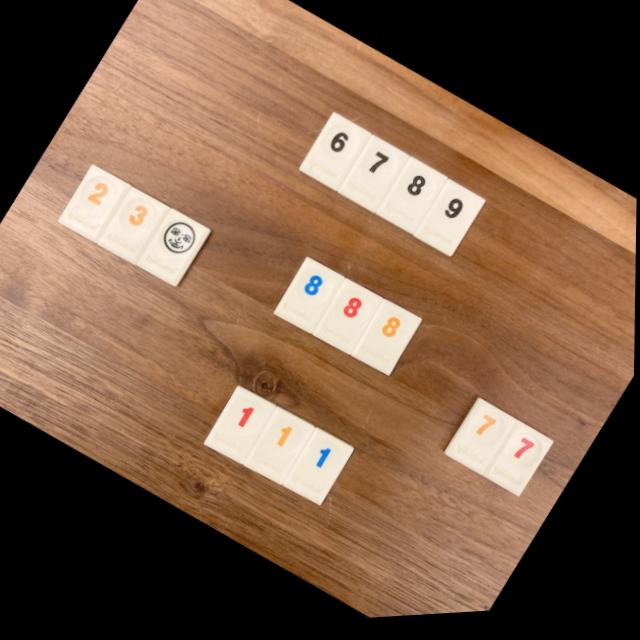black_6: (299, 117, 371, 194)
black_7: (337, 140, 409, 217)
black_8: (376, 162, 447, 239)
black_9: (413, 185, 486, 261)
blue_1: (284, 431, 354, 509)
blue_8: (274, 261, 345, 337)
joker: (137, 211, 210, 288)
orange_1: (244, 410, 315, 488)
orange_2: (58, 166, 131, 244)
orange_3: (99, 189, 170, 265)
orange_7: (445, 405, 517, 480)
orange_8: (352, 304, 422, 380)
red_1: (205, 390, 277, 467)
red_7: (484, 427, 554, 502)
red_8: (313, 283, 383, 359)
